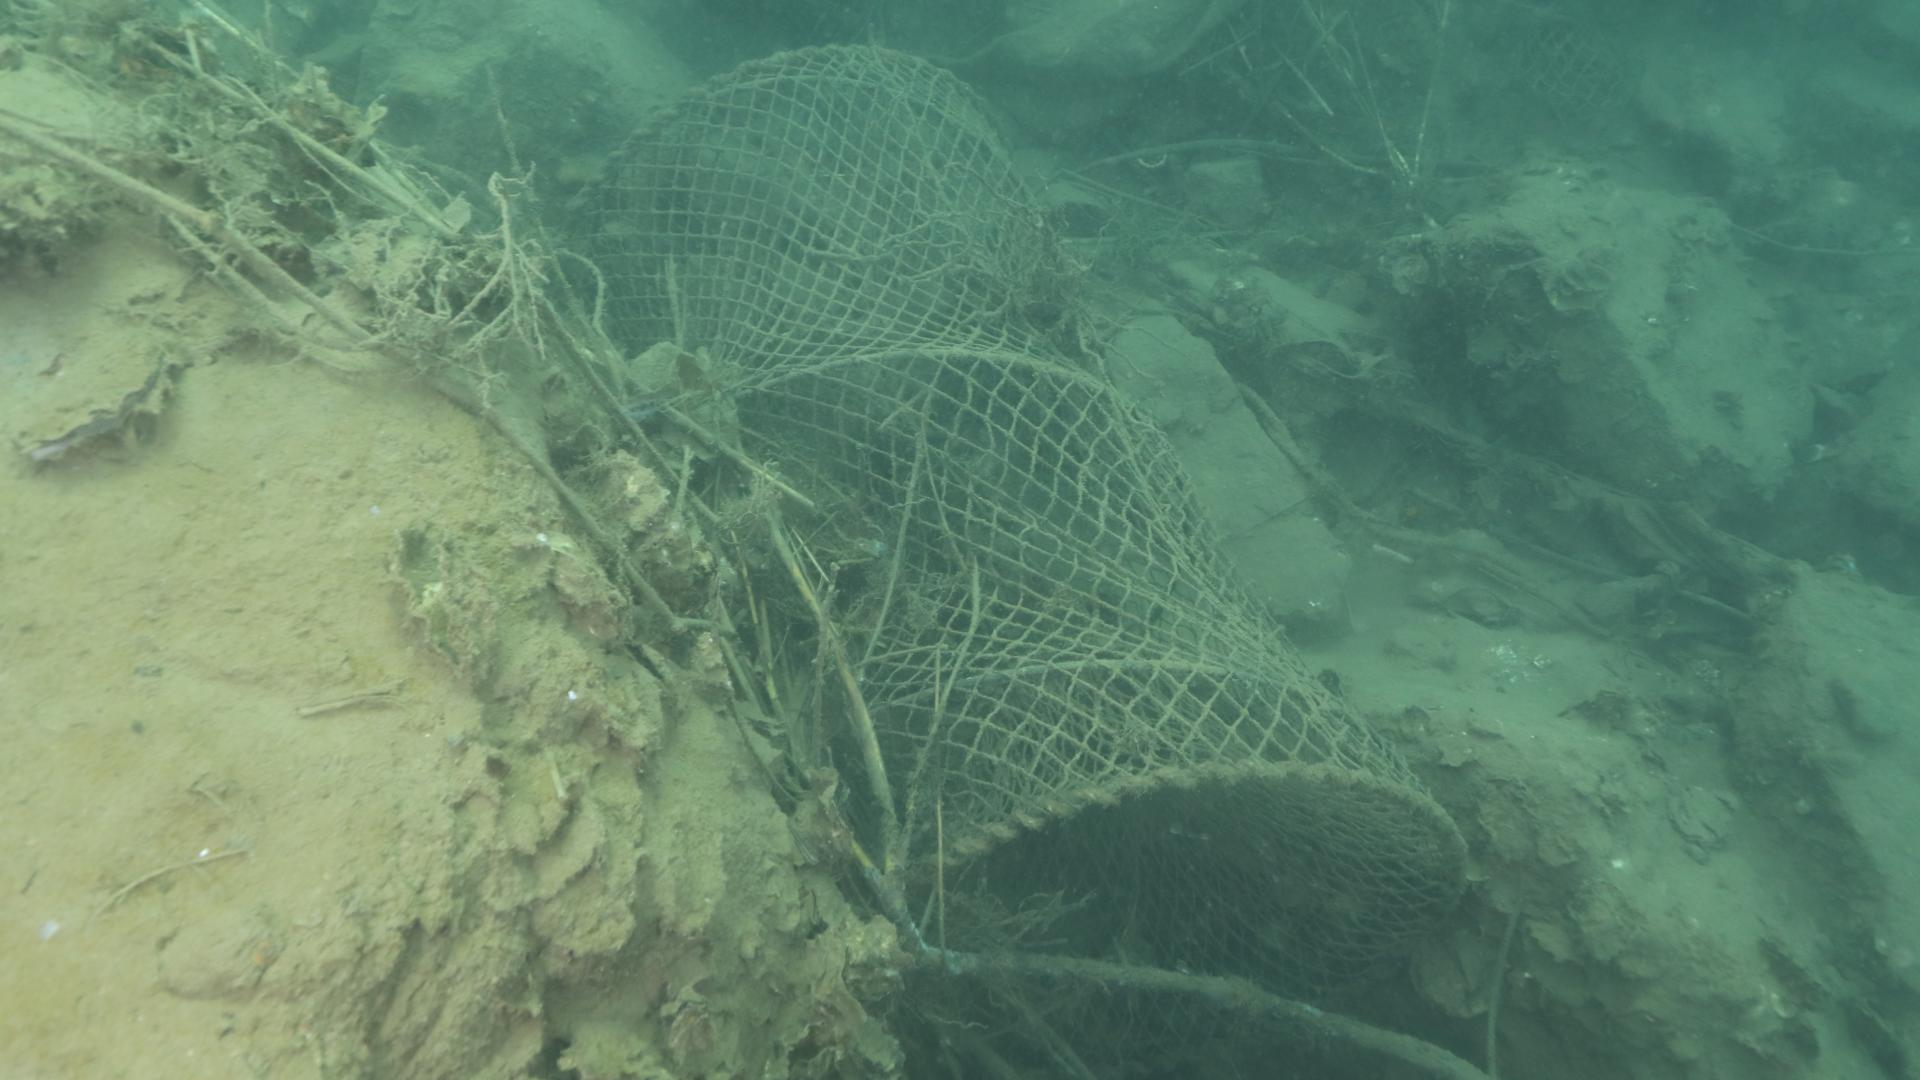spring fish trap: (549, 42, 1472, 1080)
